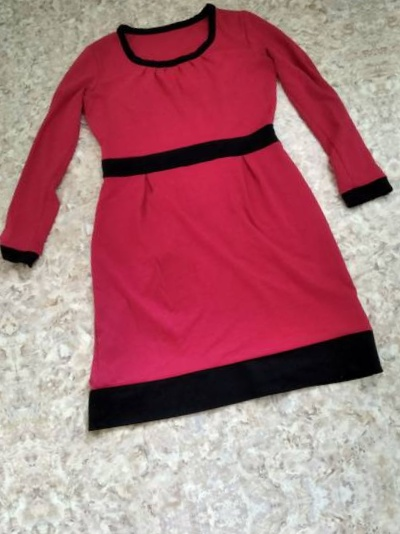Dress: (0, 0, 400, 462), (364, 0, 400, 396), (0, 41, 22, 530), (0, 0, 354, 0)
